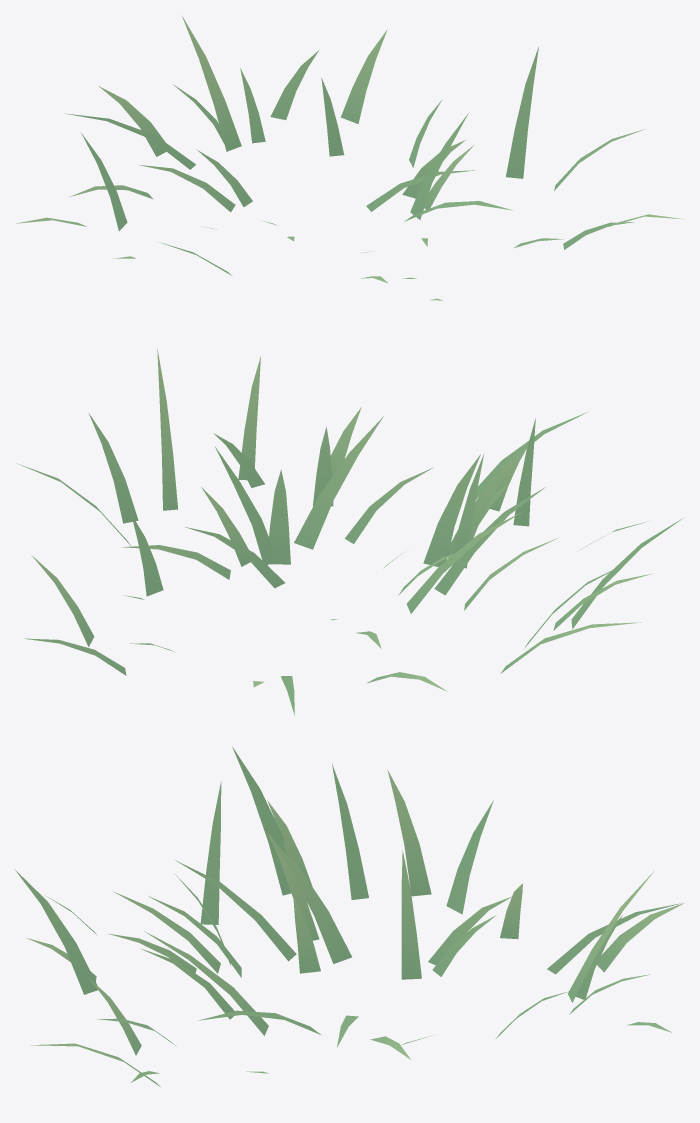
File: grass_sward_a.glb
The picture shows the model from 3 angles, top to bottom: view 1: azimuth 30°, elevation 25°; view 2: azimuth 150°, elevation 25°; view 3: azimuth 270°, elevation 25°; orthographic projection. The views are drawn at different scales.
Visible parts, largest first — view 1: soft; view 2: soft; view 3: soft.
Part boxes in pixels (x1,y1,x2,y2): soft: [16, 16, 683, 300]; soft: [16, 349, 684, 715]; soft: [14, 746, 684, 1086].
Bounding box in the file's own units: 1.18 × 0.2417 × 1.09.
